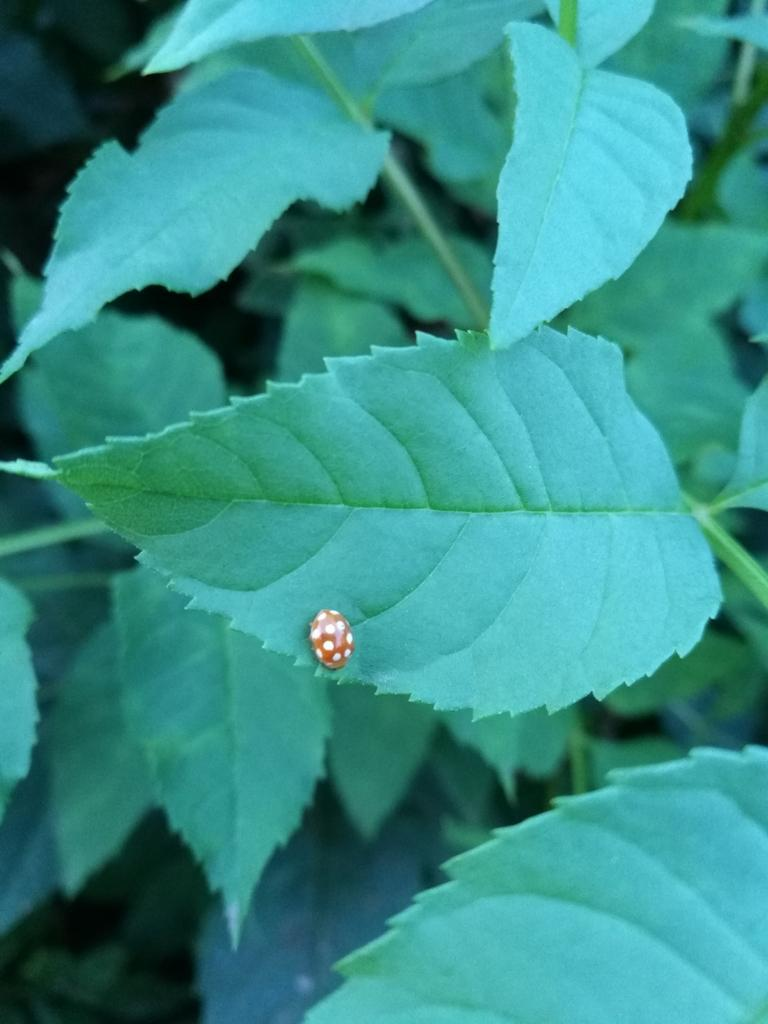ladybug: (307, 606, 358, 675)
